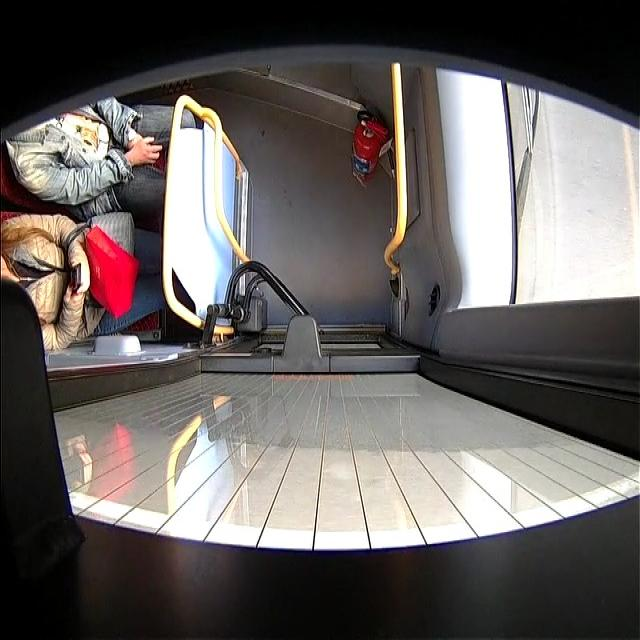bus-door: (9, 363, 640, 607)
